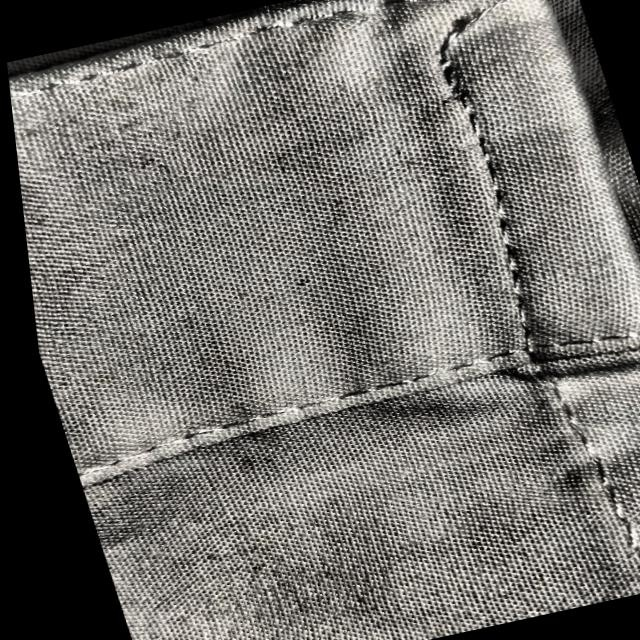Stitch: (400, 0, 600, 83)
